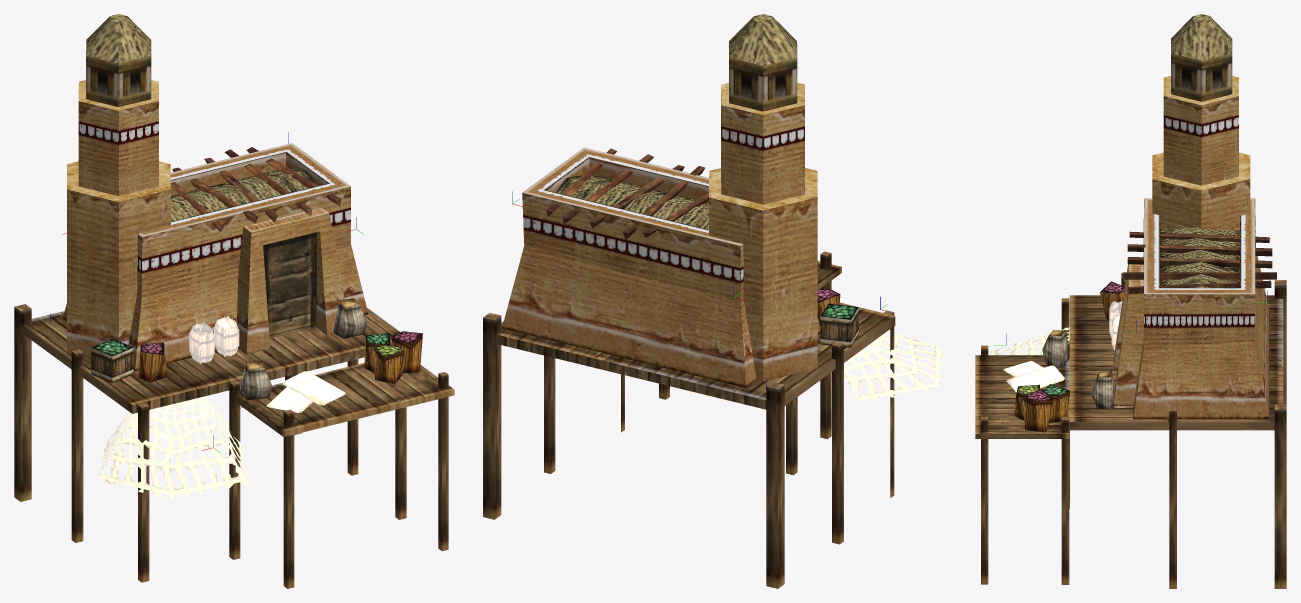
Rendered from age0.glb.
The picture shows the model from 3 angles, left to right: view 1: azimuth 30°, elevation 25°; view 2: azimuth 150°, elevation 25°; view 3: azimuth 270°, elevation 25°; orthographic projection. The views are drawn at different scales.
Visible parts, largest first — view 1: building e tradedock age1Model; view 2: building e tradedock age1Model; view 3: building e tradedock age1Model.
Part boxes in pixels (x1,y1,x2,y2): building e tradedock age1Model: (14,14,454,588); building e tradedock age1Model: (483,14,944,588); building e tradedock age1Model: (975,14,1286,588).
Bounding box in the file's own units: 6.72 × 10.02 × 6.03.
Materials: 8 (7 with a texture image).
